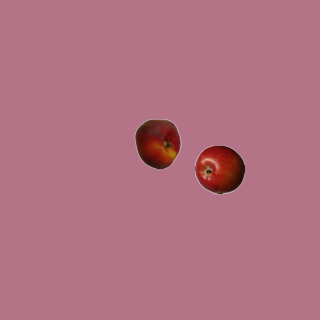Apple Braeburn: (194, 144, 244, 194)
Nectarine Flat: (132, 118, 182, 168)
